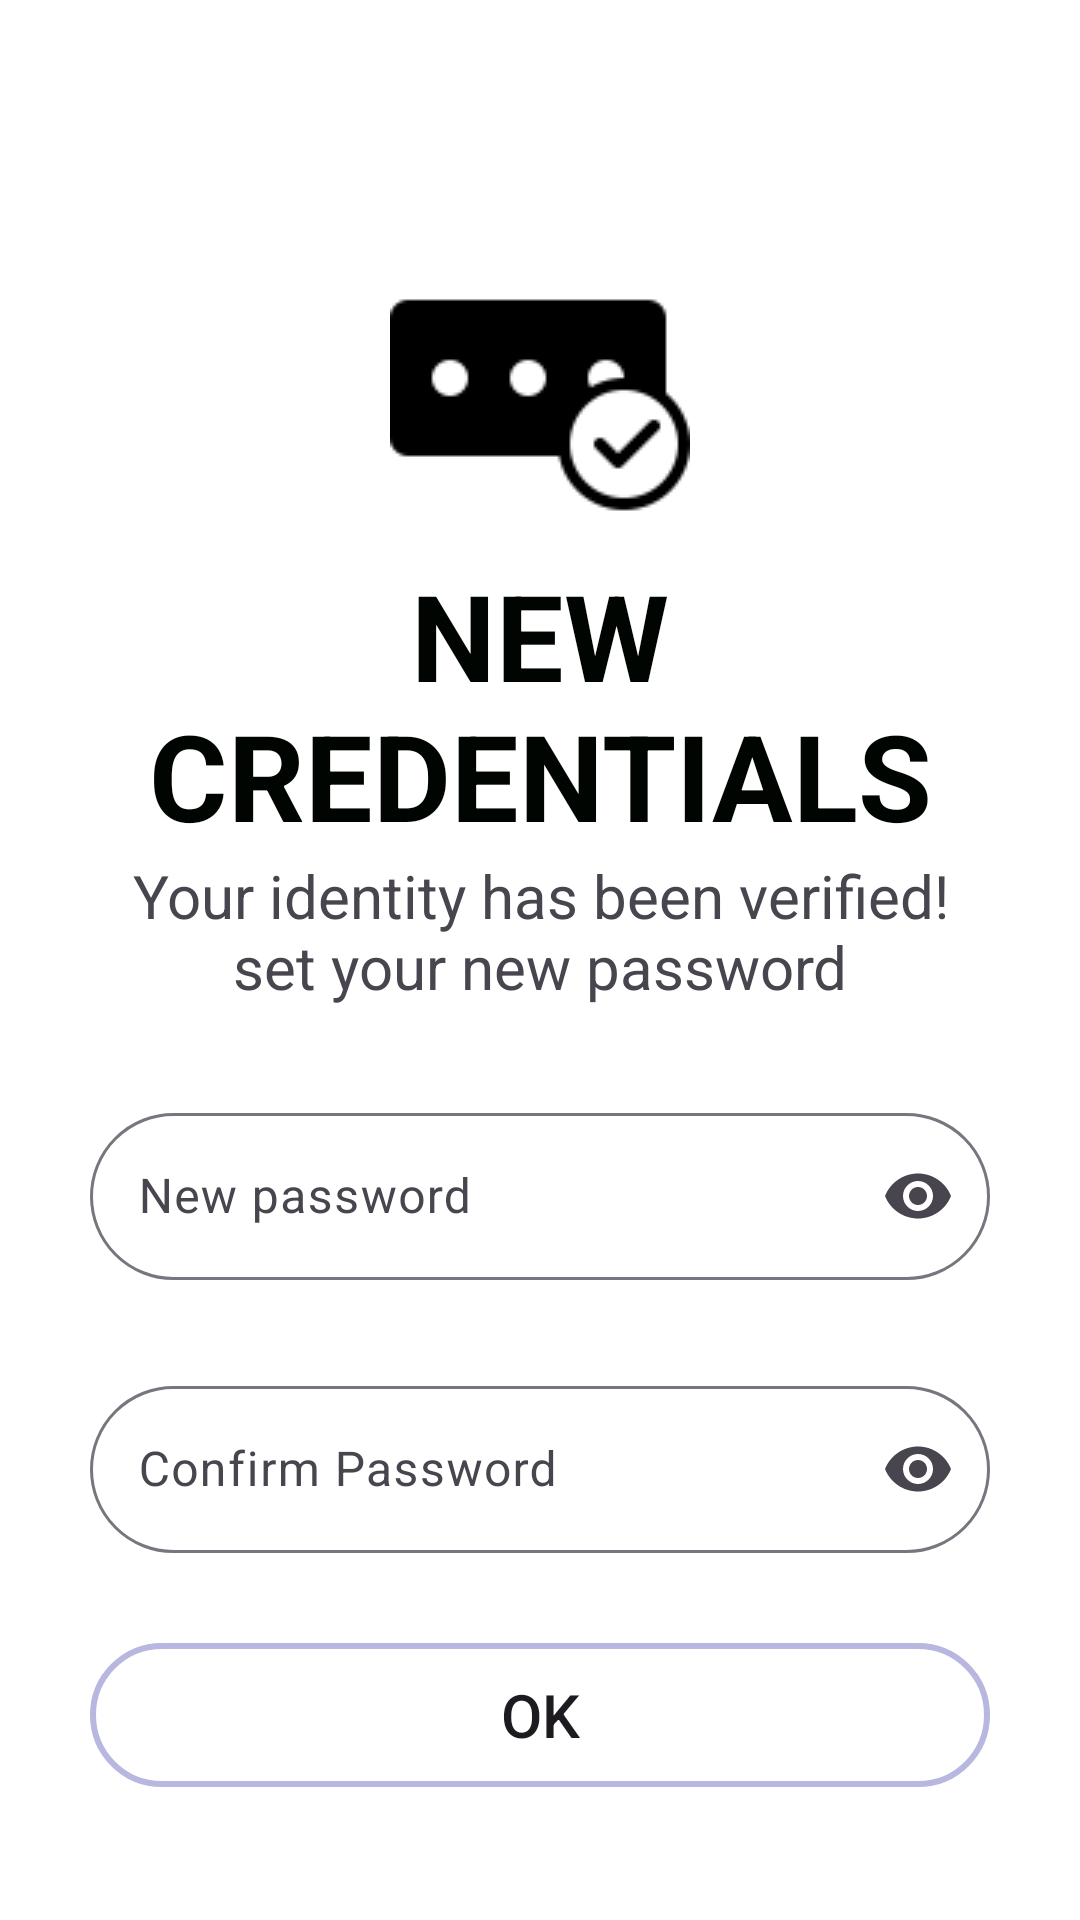

Screen size 1080w x 1920h. Icon name, then its center in pixels as point (x, y):
secu: point (540, 405)
